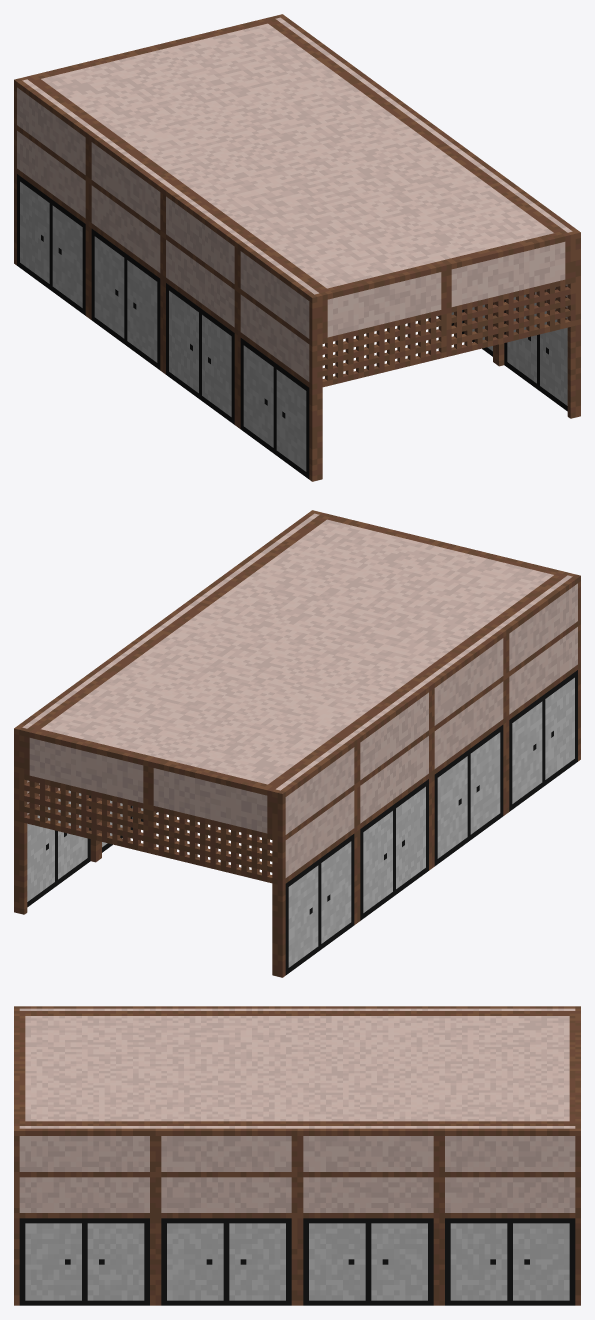
The model's file is sidewall.obj.
The picture shows the model from 3 angles, top to bottom: view 1: azimuth 30°, elevation 25°; view 2: azimuth 150°, elevation 25°; view 3: azimuth 270°, elevation 25°; orthographic projection. The views are drawn at different scales.
Bounding box in the file's own units: 5.2 × 3.4 × 10.
1 material, 1 textured.
